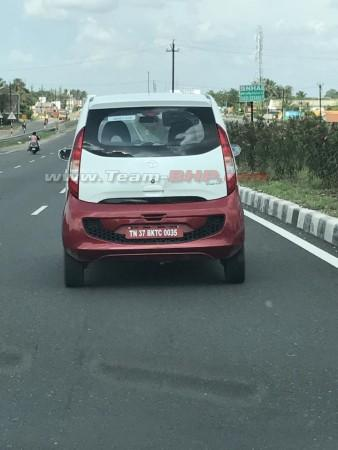Nano: (56, 90, 248, 285)
